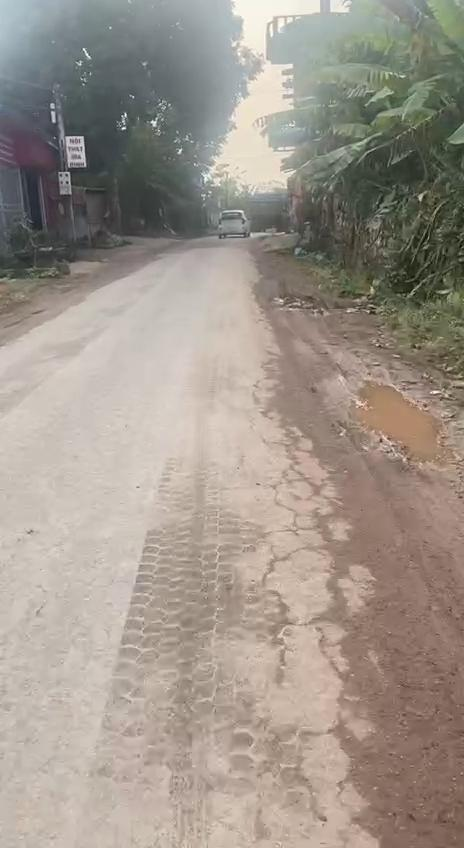pothole: (332, 374, 462, 474)
